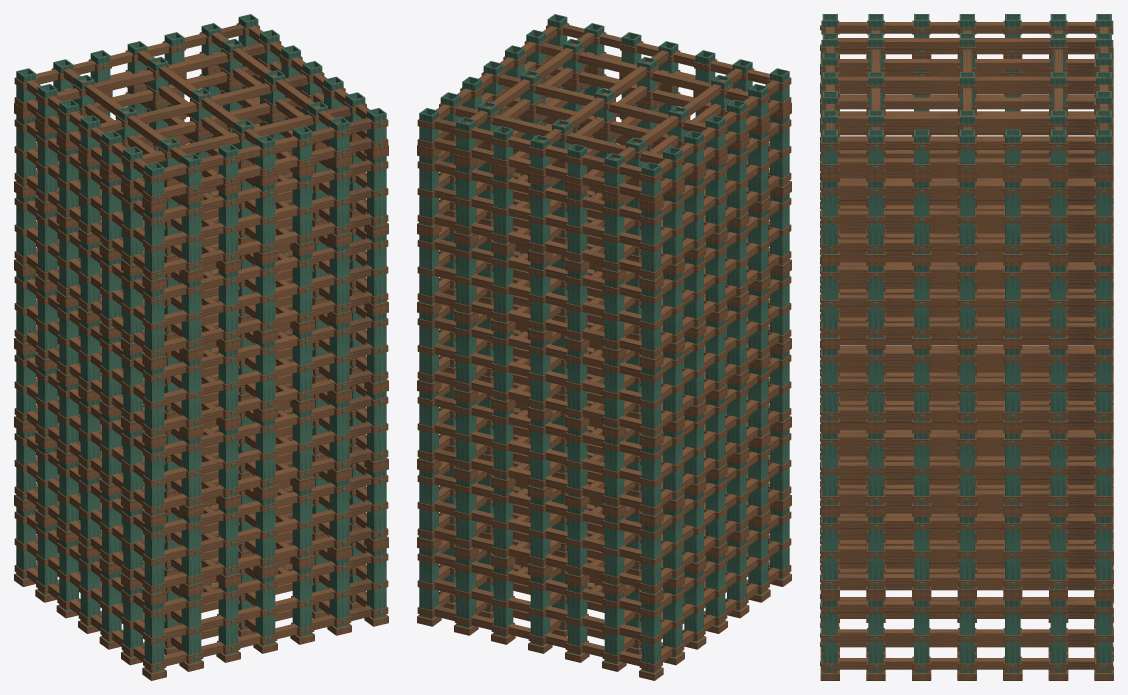
3 renders of one model, left to right at view 1: azimuth 30°, elevation 25°; view 2: azimuth 150°, elevation 25°; view 3: azimuth 270°, elevation 25°, orthographic. The views are drawn at different scales.
Visible parts, largest first — view 1: Tier 6 internal tie 0-0.56-0-0.75, Tier 6 internal tie 0-0-0-0.75, Tier 6 internal tie 0--0.56-0-0.75, Tier 2 tie 0-0-0.5, Tier 3 tie 0-0-0.16, Tier 4 tie 0-0-0.16, Tier 5 tie 0-0-0.5, Tier 0 tie 0-0-0.16, Tier 6 tie 0-0-0.75, Tier 1 tie 0-0-0.5, Tier 2 tie 0-0-0.16, Tier 0 tie 0-0-0.5 (+119 smaller); view 2: Tier 6 internal tie 0--0.56-0-0.75, Tier 6 internal tie 0-0-0-0.75, Tier 6 internal tie 0-0.56-0-0.75, Tier 2 tie 2-0-0.5, Tier 3 tie 2-0-0.16, Tier 4 tie 2-0-0.16, Tier 5 tie 2-0-0.5, Tier 0 tie 2-0-0.16, Tier 6 tie 2-0-0.75, Tier 1 tie 2-0-0.5, Tier 2 tie 2-0-0.16, Tier 0 tie 2-0-0.5 (+119 smaller); view 3: Tier 6 internal tie 1-0-0-0.75, Tier 6 internal tie 1-0-0-0.25, Tier 6 internal tie 1-0.56-0-0.75, Tier 6 internal tie 1--0.56-0-0.75, Tier 6 internal tie 1--0.56-0-0.25, Tier 3 tie 1-0-0.84, Tier 5 tie 1-0-0.5, Tier 1 tie 1-0-0.5, Tier 3 tie 1-0-0.16, Tier 2 tie 1-0-0.84, Tier 4 tie 1-0-0.5, Tier 6 tie 1-0-0.75 (+122 smaller).
Boxes of the visible parts, x1=… form: Tier 6 internal tie 0-0.56-0-0.75: x1=57, y1=43, x2=265, y2=101; Tier 6 internal tie 0-0-0-0.75: x1=100, y1=74, x2=308, y2=132; Tier 6 internal tie 0--0.56-0-0.75: x1=143, y1=105, x2=350, y2=163; Tier 2 tie 0-0-0.5: x1=164, y1=422, x2=372, y2=482; Tier 3 tie 0-0-0.16: x1=164, y1=370, x2=372, y2=430; Tier 4 tie 0-0-0.16: x1=164, y1=292, x2=372, y2=352; Tier 5 tie 0-0-0.5: x1=164, y1=186, x2=372, y2=247; Tier 0 tie 0-0-0.16: x1=164, y1=605, x2=372, y2=666; Tier 6 tie 0-0-0.75: x1=164, y1=118, x2=372, y2=178; Tier 1 tie 0-0-0.5: x1=164, y1=500, x2=372, y2=560; Tier 2 tie 0-0-0.16: x1=164, y1=448, x2=372, y2=509; Tier 0 tie 0-0-0.5: x1=164, y1=579, x2=372, y2=639; Tier 6 internal tie 0--0.56-0-0.75: x1=540, y1=43, x2=748, y2=101; Tier 6 internal tie 0-0-0-0.75: x1=497, y1=74, x2=705, y2=132; Tier 6 internal tie 0-0.56-0-0.75: x1=455, y1=105, x2=662, y2=163; Tier 2 tie 2-0-0.5: x1=433, y1=422, x2=641, y2=482; Tier 3 tie 2-0-0.16: x1=433, y1=370, x2=641, y2=430; Tier 4 tie 2-0-0.16: x1=433, y1=292, x2=641, y2=352; Tier 5 tie 2-0-0.5: x1=433, y1=186, x2=641, y2=247; Tier 0 tie 2-0-0.16: x1=433, y1=605, x2=641, y2=666; Tier 6 tie 2-0-0.75: x1=433, y1=118, x2=641, y2=178; Tier 1 tie 2-0-0.5: x1=433, y1=500, x2=641, y2=560; Tier 2 tie 2-0-0.16: x1=433, y1=448, x2=641, y2=509; Tier 0 tie 2-0-0.5: x1=433, y1=579, x2=641, y2=639; Tier 6 internal tie 1-0-0-0.75: x1=828, y1=76, x2=1105, y2=88; Tier 6 internal tie 1-0-0-0.25: x1=839, y1=97, x2=1094, y2=109; Tier 6 internal tie 1-0.56-0-0.75: x1=828, y1=115, x2=1105, y2=126; Tier 6 internal tie 1--0.56-0-0.75: x1=828, y1=38, x2=1105, y2=49; Tier 6 internal tie 1--0.56-0-0.25: x1=839, y1=59, x2=1094, y2=70; Tier 3 tie 1-0-0.84: x1=838, y1=349, x2=1096, y2=361; Tier 5 tie 1-0-0.5: x1=838, y1=210, x2=1096, y2=222; Tier 1 tie 1-0-0.5: x1=838, y1=545, x2=1096, y2=557; Tier 3 tie 1-0-0.16: x1=838, y1=406, x2=1096, y2=418; Tier 2 tie 1-0-0.84: x1=838, y1=433, x2=1096, y2=445; Tier 4 tie 1-0-0.5: x1=838, y1=294, x2=1096, y2=306; Tier 6 tie 1-0-0.75: x1=838, y1=137, x2=1096, y2=149.
Bounding box in the file's own units: 1.8 × 3.68 × 1.8.
Materials: 2 (2 with a texture image).
